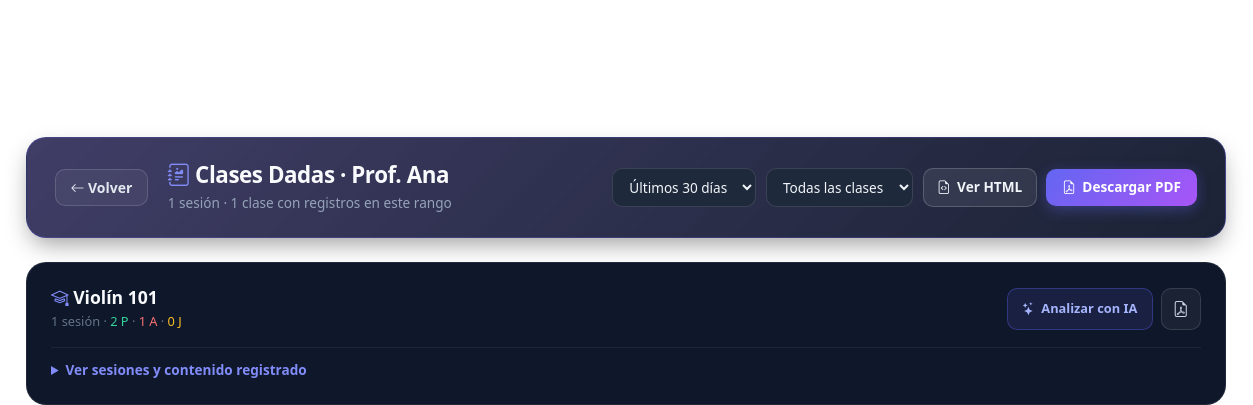
MaestroClasesContenidoView › al hacer click, arma el veredicto y lo muestra con puntaje y resumen
Click the button with class "btn-analizar-ia".
click(1080, 309)  # box [1007,288,1153,330]
(page scrolled)
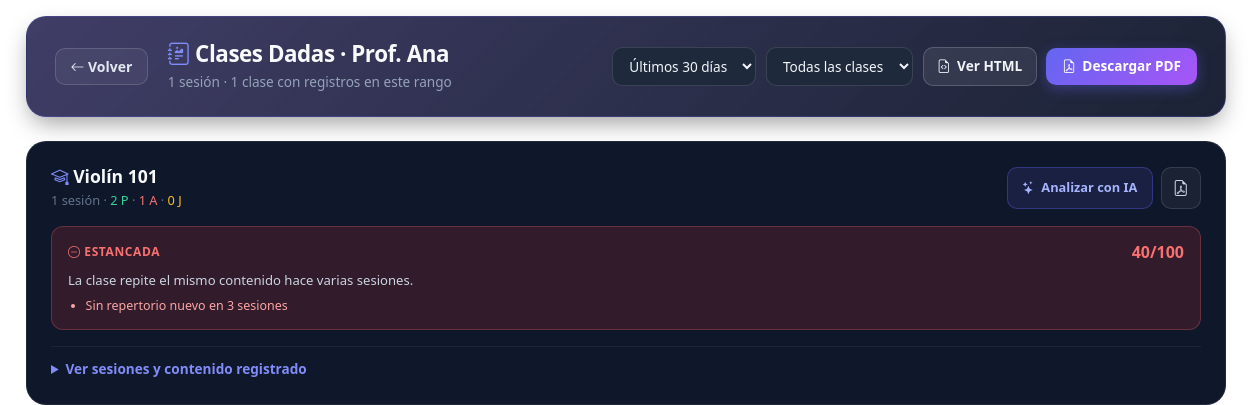
Now the element with id "test-container" shows "ESTANCADA", box [81,243,160,260]
Now the element with id "test-container" shows "40/100", box [1132,241,1184,263]
Now the element with id "test-container" shows "repite el mismo contenido", box [68,271,413,289]
